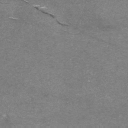finishing roll printing: (32, 4, 68, 26), (22, 0, 28, 4)
